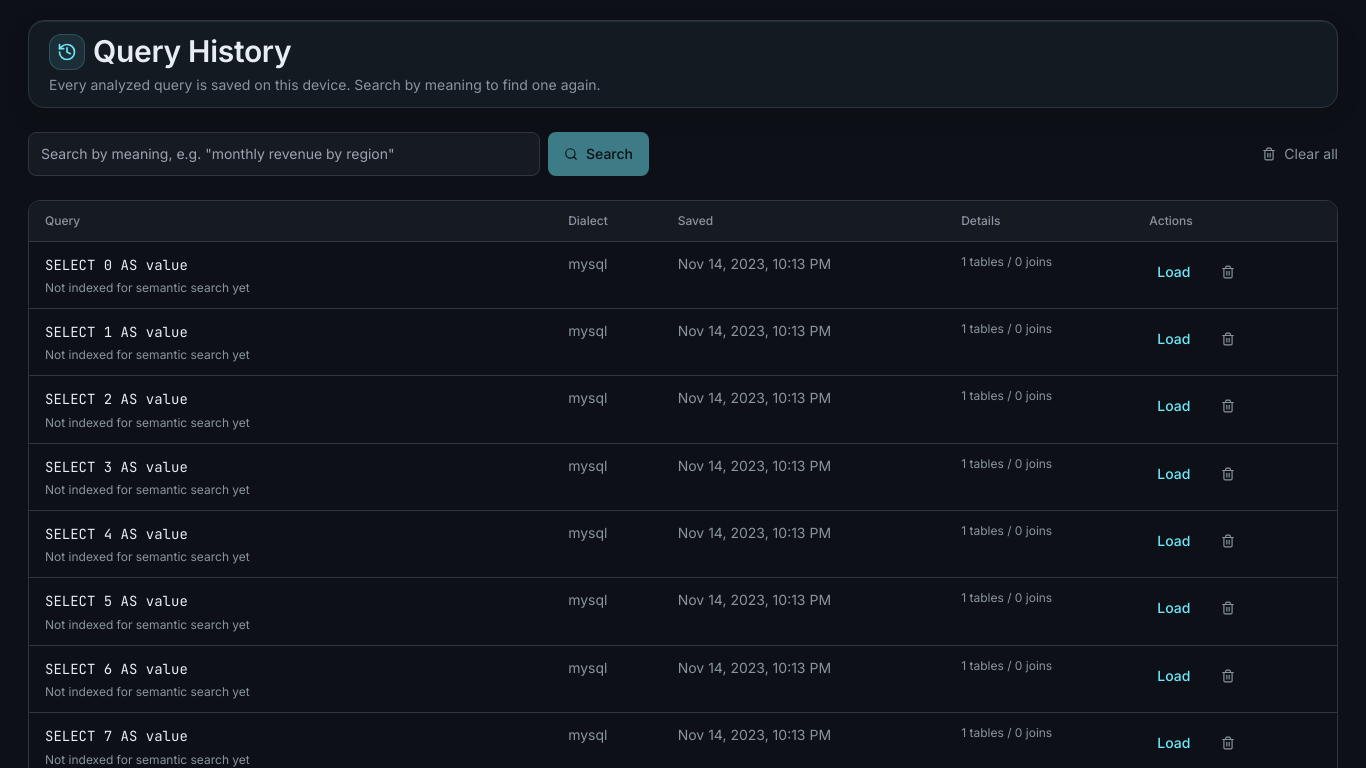
Test: Query history page › falls back to text matches when semantic search is unavailable
Expected: the text "SELECT 0 AS value" is shown, 45,256 -> 188,274
Type "SELECT 40" into the search field.
click(284, 154); type("SELECT 40")  # box 28,132 -> 540,176
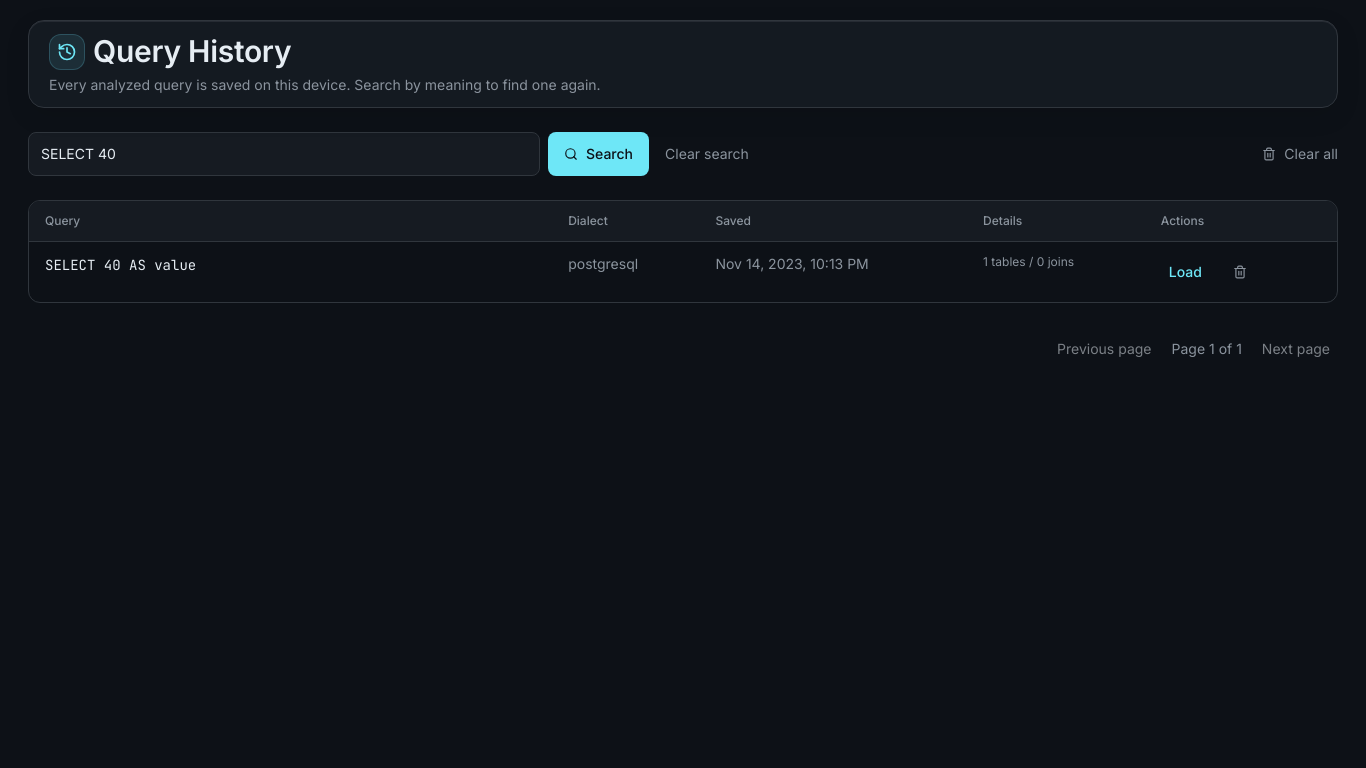
Click the button "Search".
click(598, 154)  # box 548,132 -> 649,176
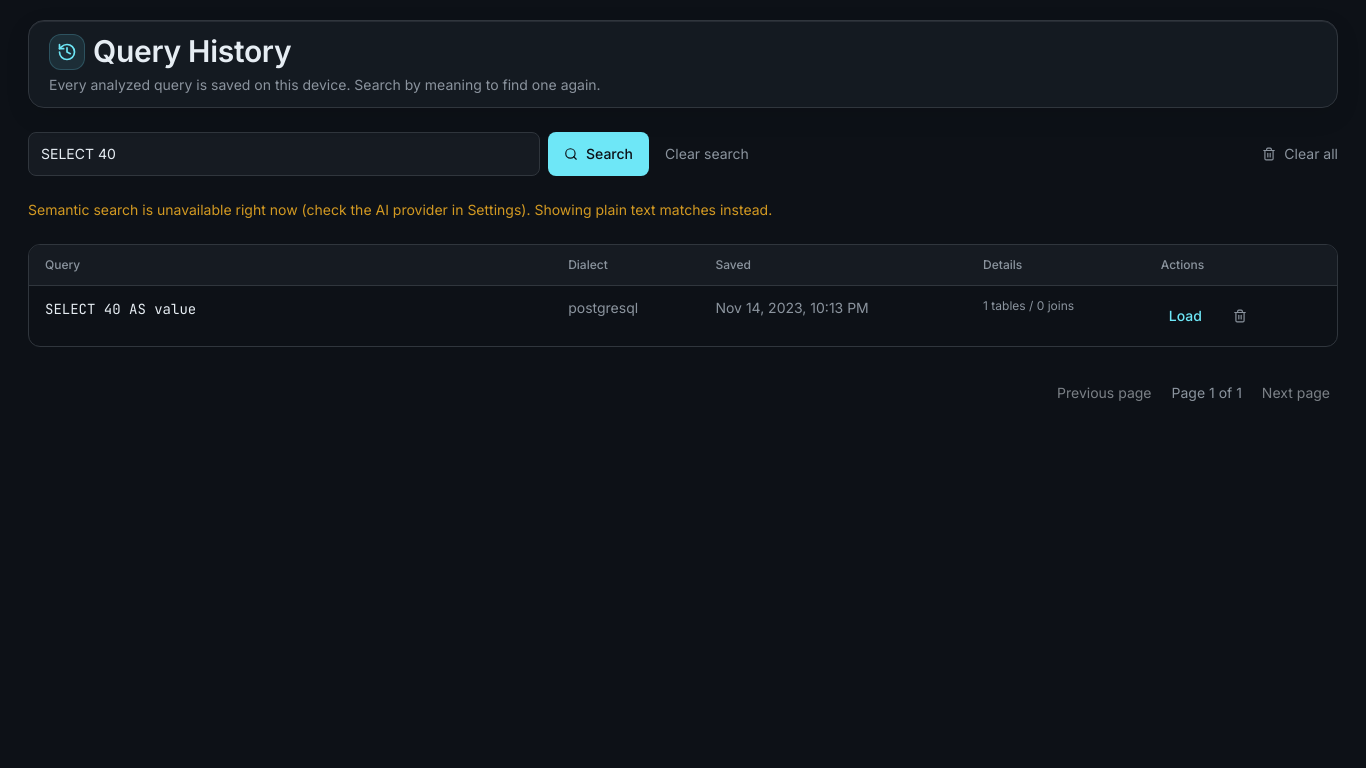
Result: the text "SELECT 40 AS value" is shown at 45,300 -> 196,318
Result: the text "Semantic search is unavailable right now (check the AI provider in Settings). Showing plain text matches instead." is shown at 28,200 -> 772,218
